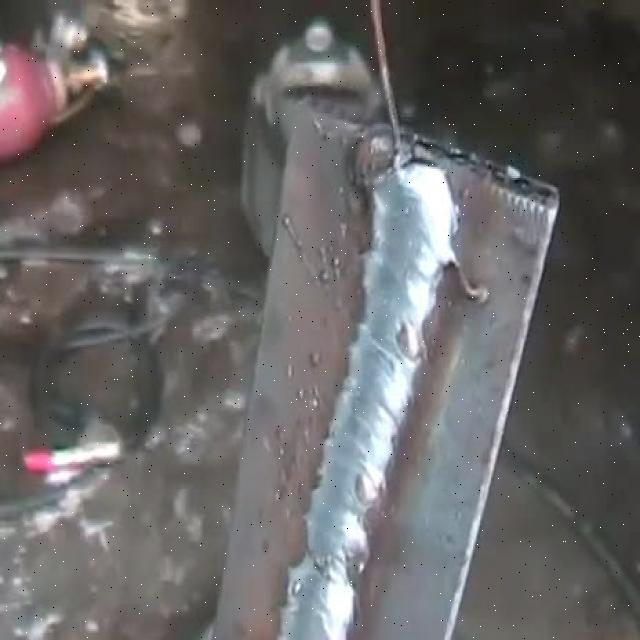Good Welding: (281, 163, 488, 639)
